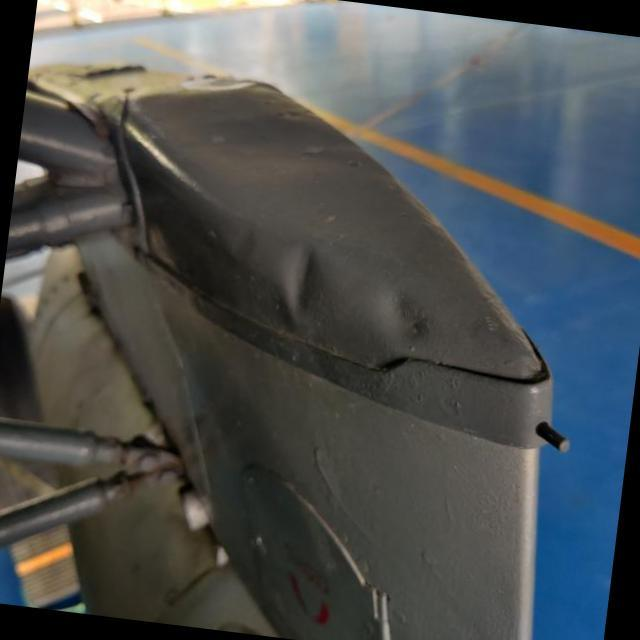Dent: (259, 228, 352, 340), (364, 266, 452, 356)
